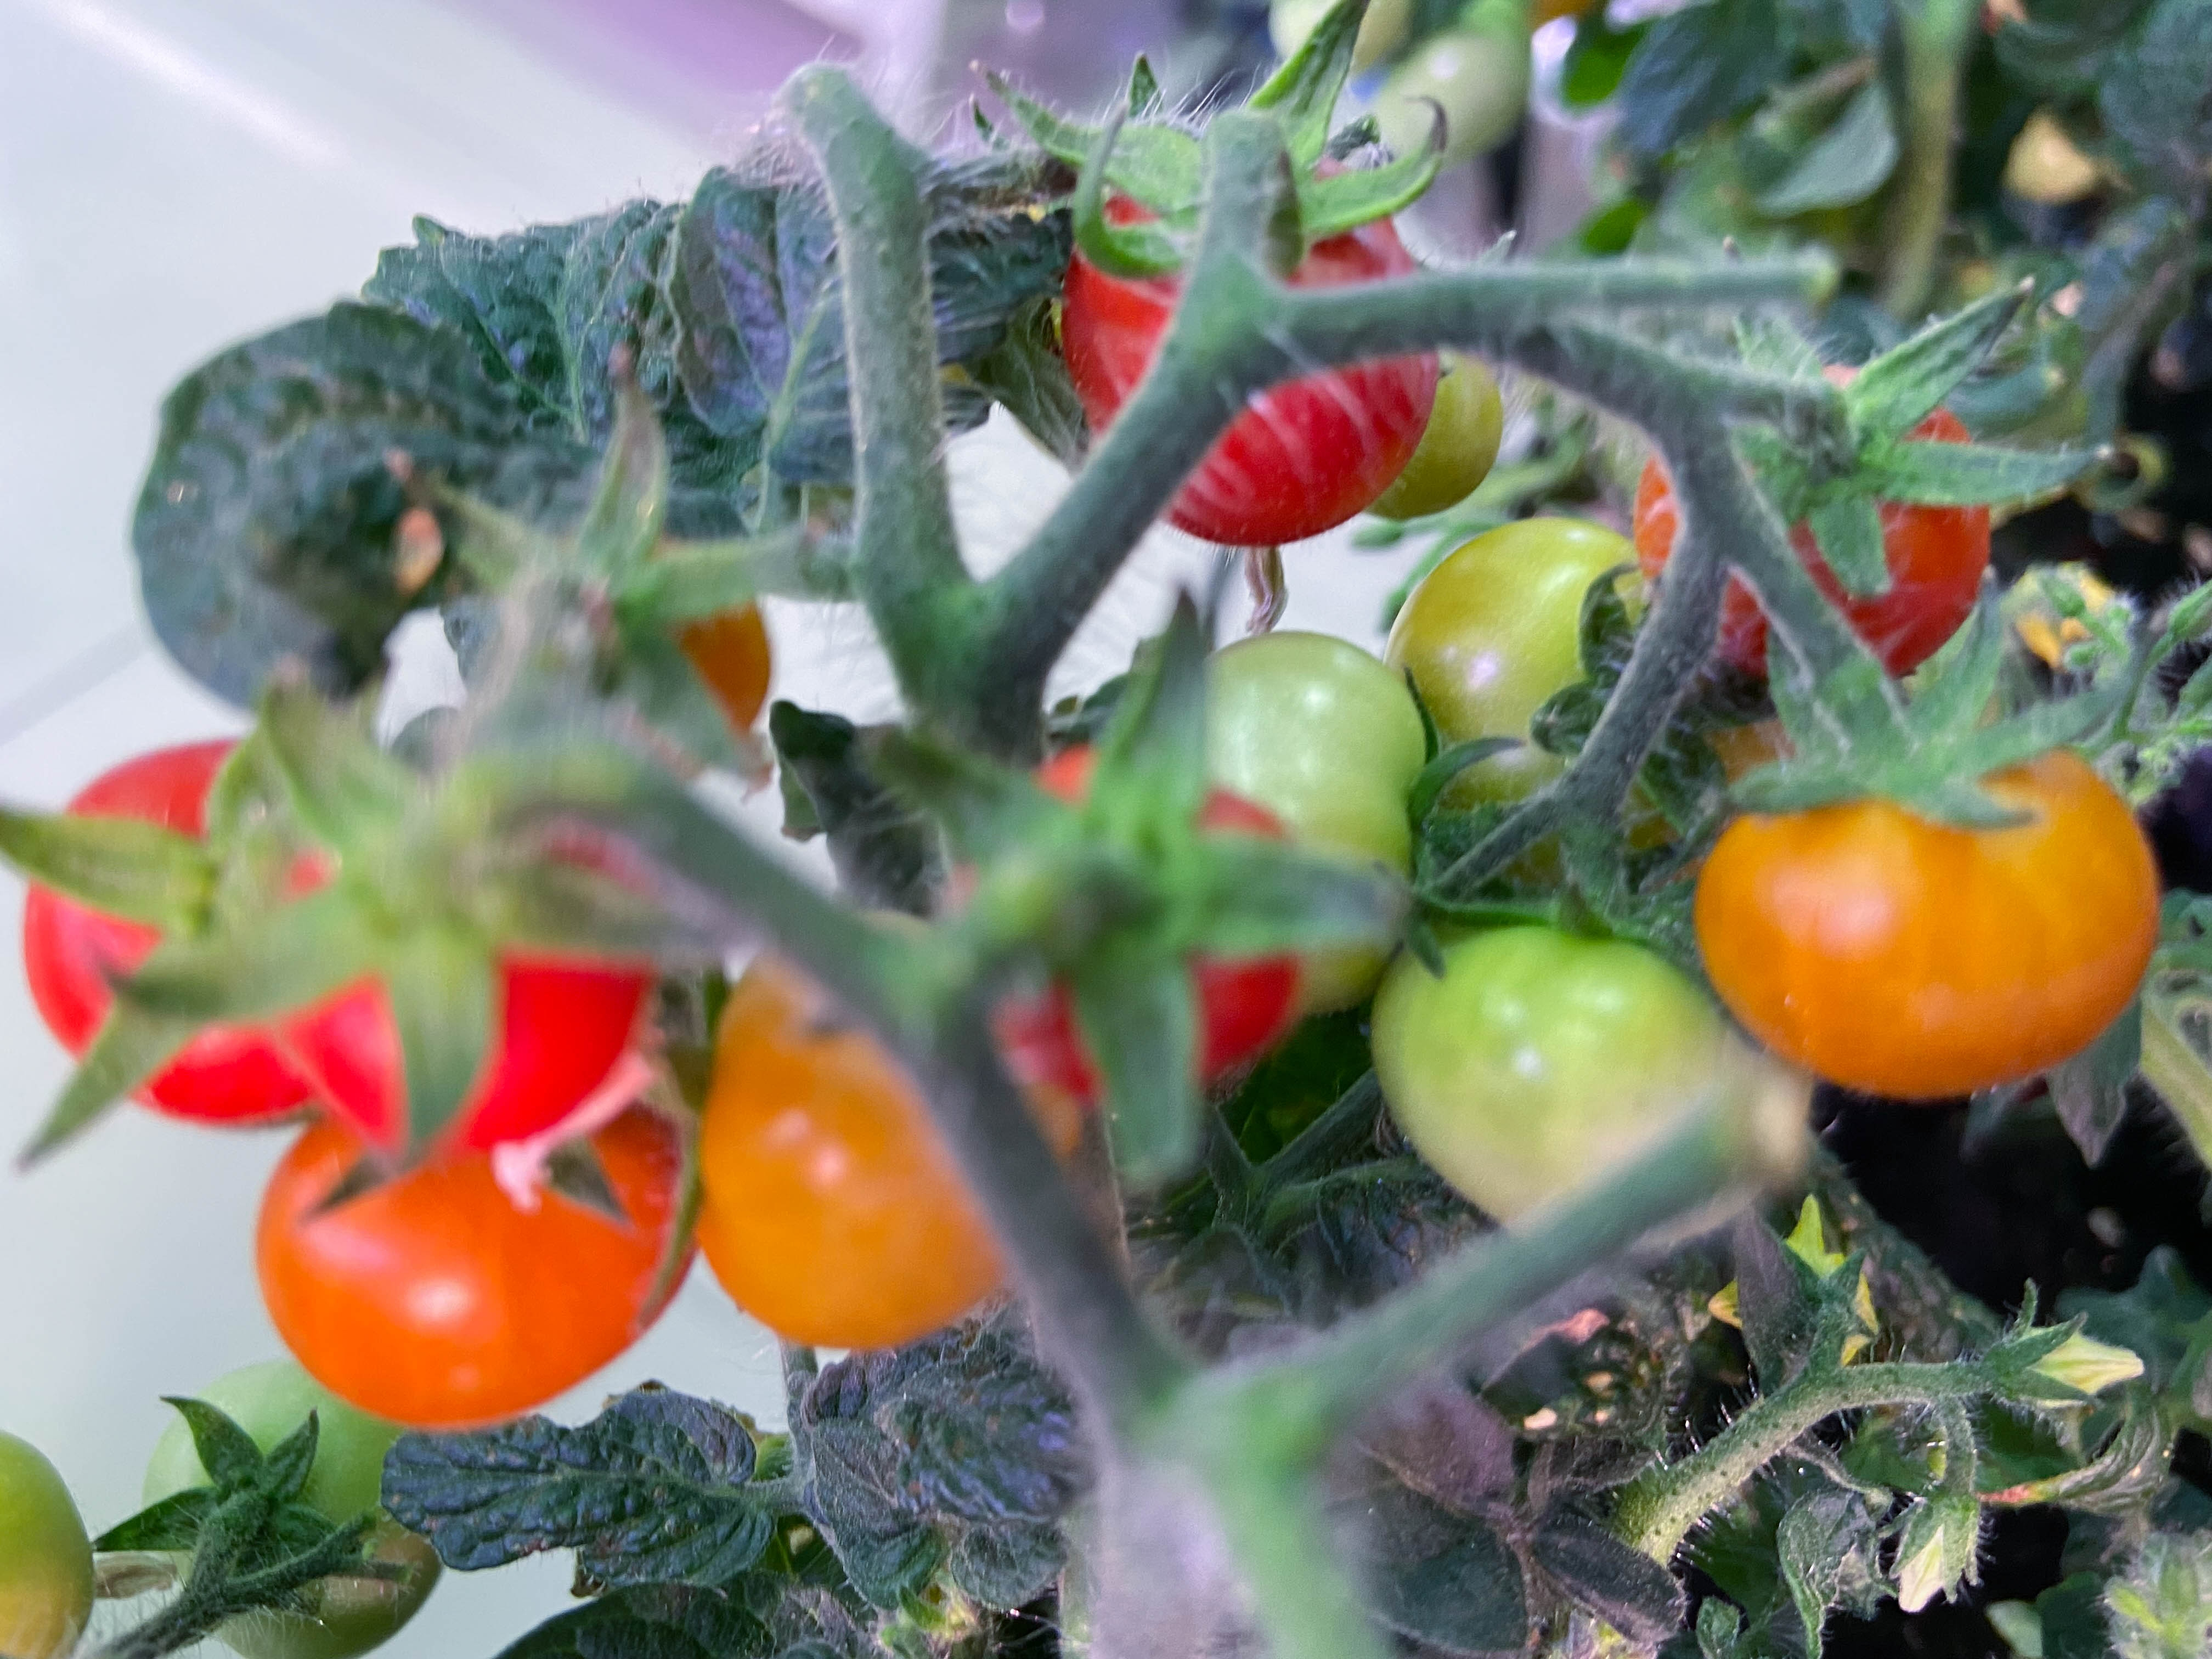green: (1371, 896, 1792, 1248), (157, 1377, 451, 1659), (1174, 627, 1413, 972), (1395, 507, 1676, 789), (1334, 343, 1510, 521), (1364, 3, 1536, 164), (1430, 751, 1599, 903), (0, 1408, 94, 1659), (1263, 0, 1413, 75)
red: (204, 760, 660, 1155), (686, 918, 1092, 1356), (16, 725, 439, 1138), (1693, 737, 2158, 1101), (1054, 145, 1444, 547), (253, 1084, 698, 1431), (949, 718, 1299, 1136), (1635, 349, 1993, 687), (439, 547, 777, 812)
